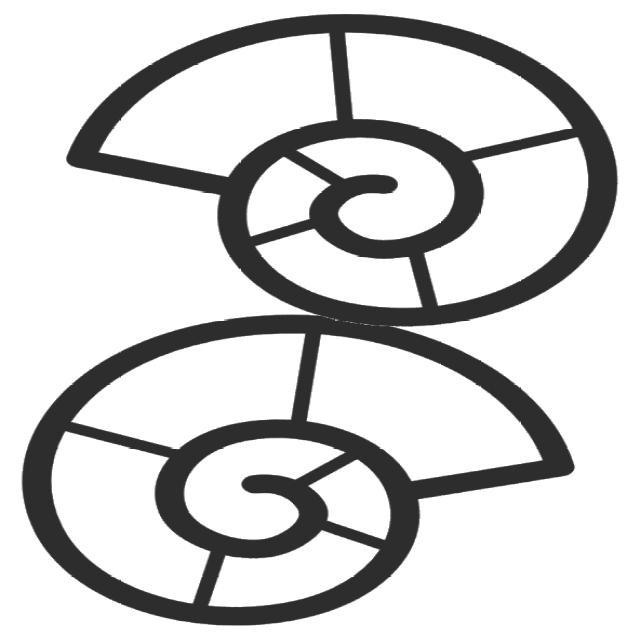fossil: (53, 7, 627, 343), (14, 308, 594, 631)
